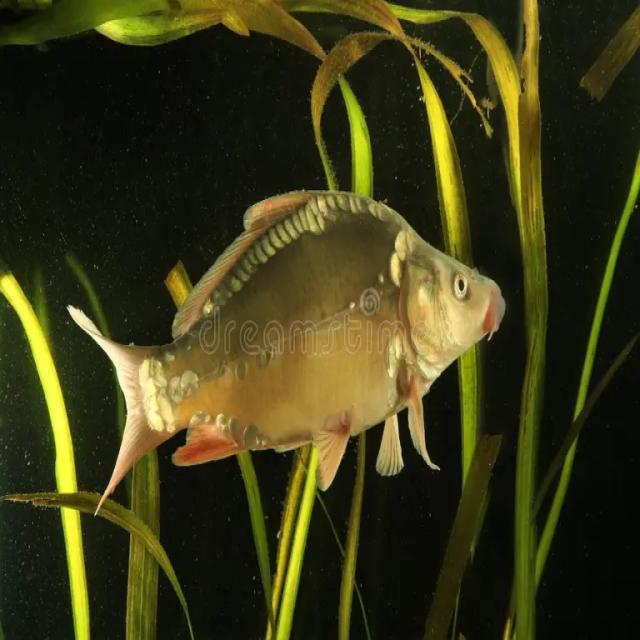Common carp: (71, 190, 506, 512)
